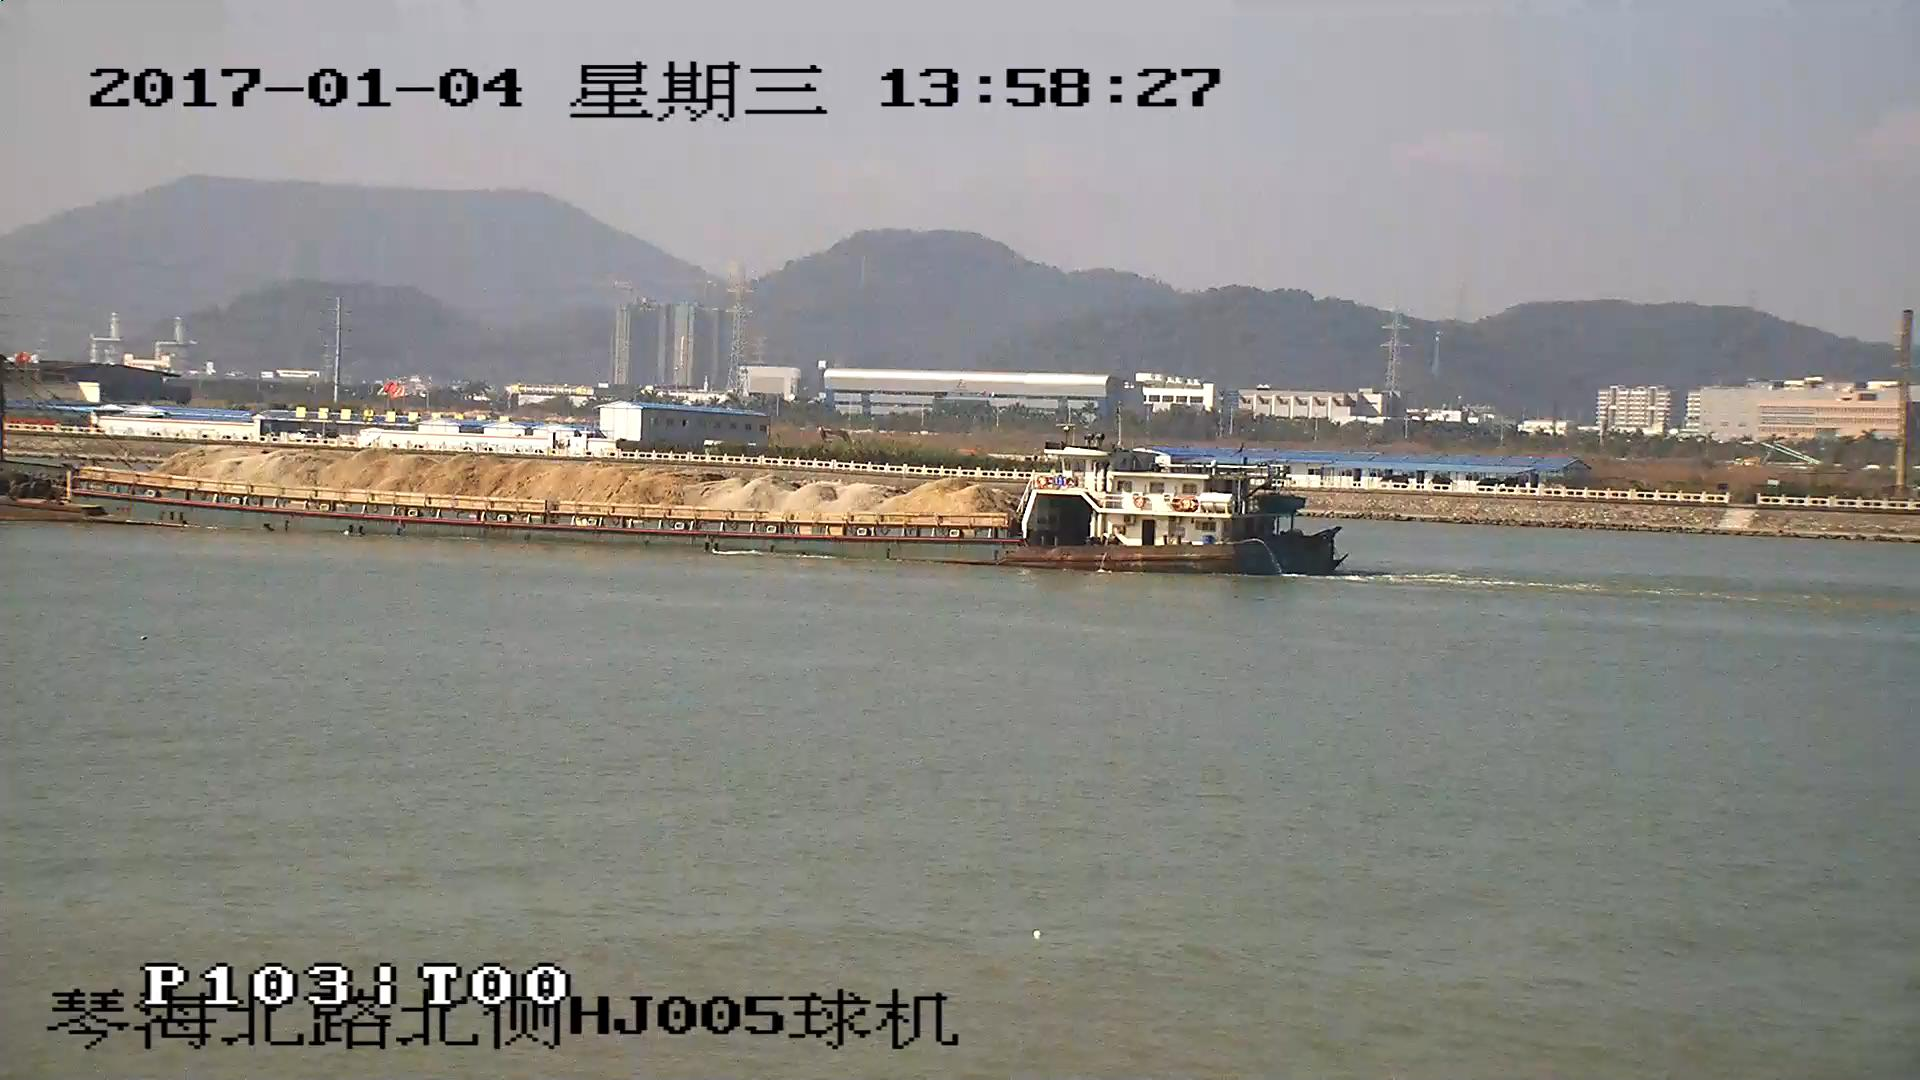ore carrier: (1, 448, 1345, 577)
